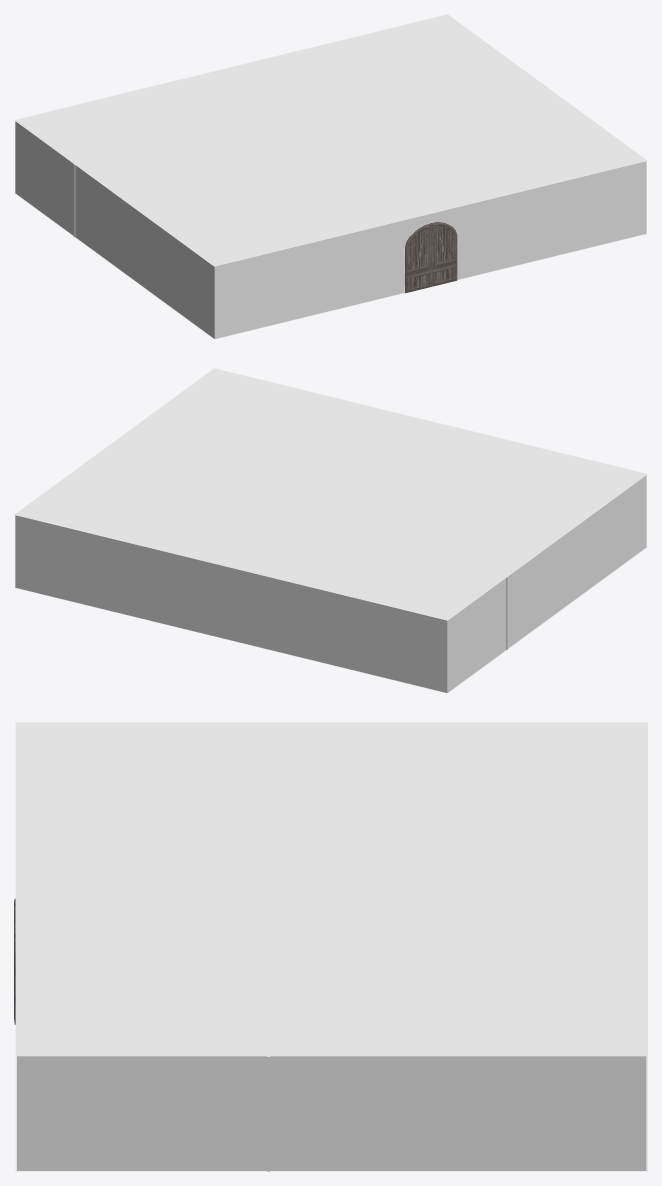
File: FirstFloor_nav.glb
3 renders of one model, top to bottom at view 1: azimuth 30°, elevation 25°; view 2: azimuth 150°, elevation 25°; view 3: azimuth 270°, elevation 25°, orthographic. The views are drawn at different scales.
Visible parts, largest first — view 1: Plane, FirstFloorInnerWalls, FrontDoor, Plane.001; view 2: Plane, FirstFloorInnerWalls, Plane.001; view 3: Plane, FirstFloorInnerWalls, Plane.001.
Part boxes in pixels (bbox=[...]): Plane: bbox=[14, 14, 647, 266]; FirstFloorInnerWalls: bbox=[15, 121, 646, 338]; FrontDoor: bbox=[405, 222, 457, 293]; Plane.001: bbox=[14, 193, 647, 339]; Plane: bbox=[14, 368, 647, 620]; FirstFloorInnerWalls: bbox=[15, 475, 646, 692]; Plane.001: bbox=[14, 547, 647, 693]; Plane: bbox=[15, 722, 647, 1056]; FirstFloorInnerWalls: bbox=[17, 1056, 646, 1170]; Plane.001: bbox=[15, 1056, 647, 1171].
Size of what is drawn, in the model's own units: 25 by 4.11 by 20.05.
Materials: 5 (1 with a texture image).
